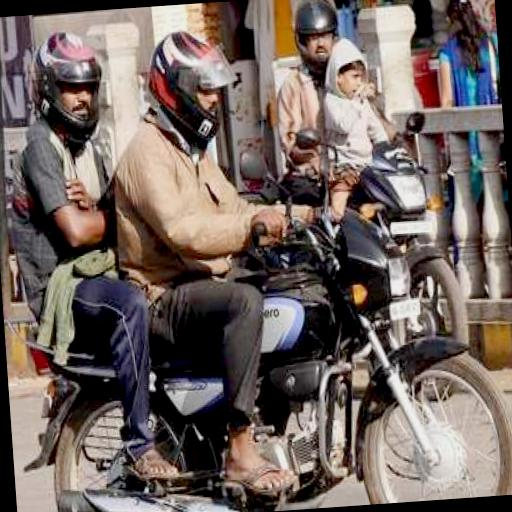helmet: (122, 11, 316, 512), (259, 0, 353, 241)
